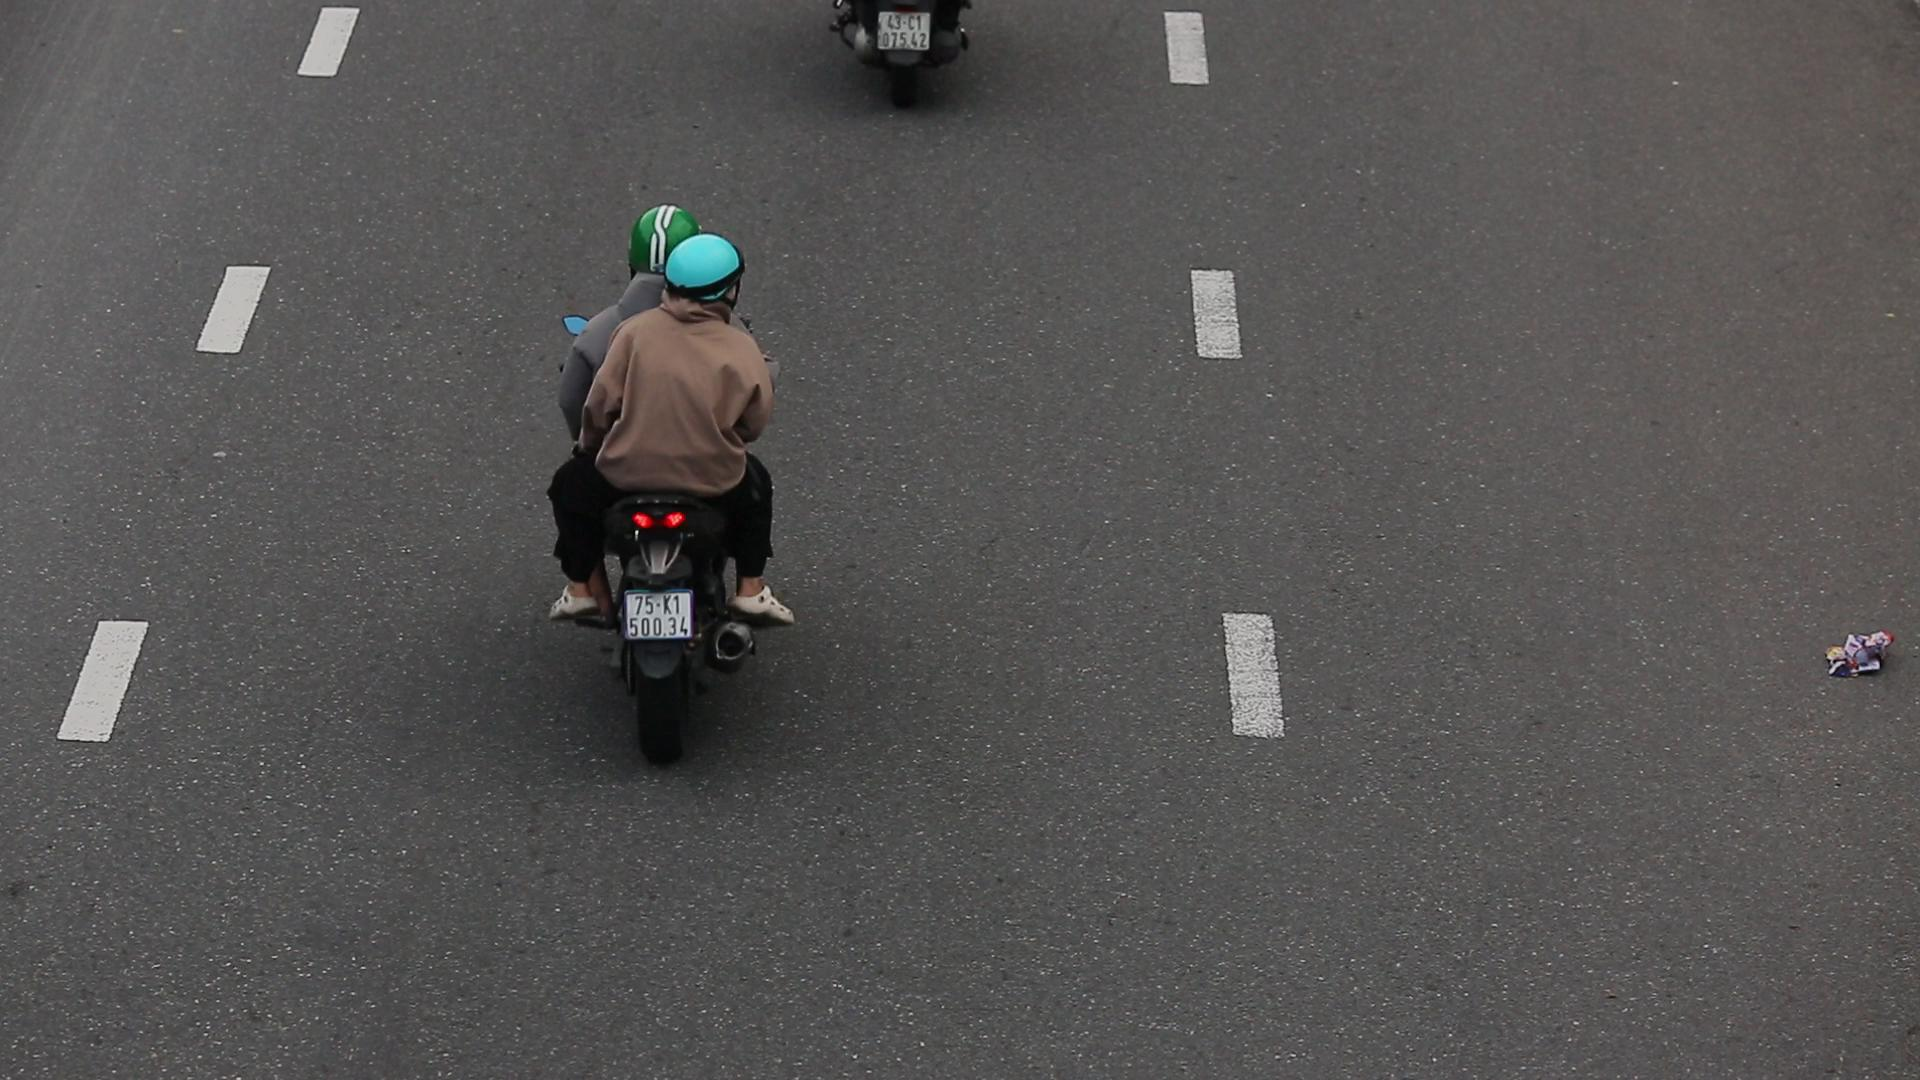motobike: (542, 182, 802, 761)
